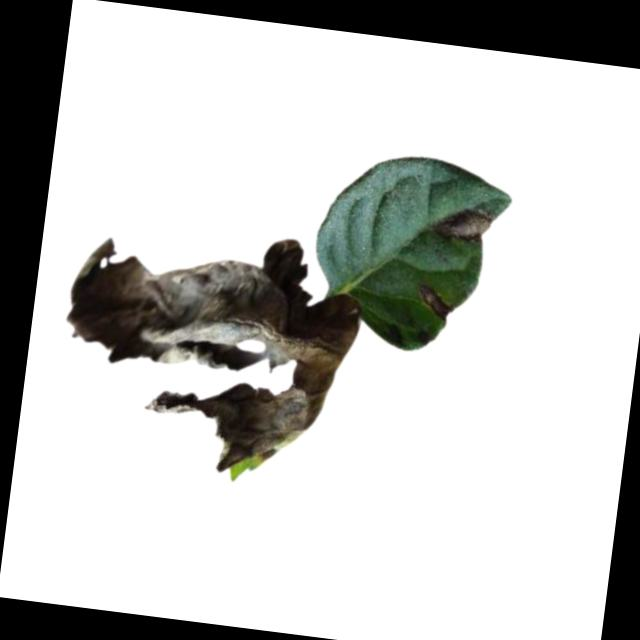Early_blight: (54, 213, 372, 487), (429, 200, 501, 245), (416, 282, 457, 323)
